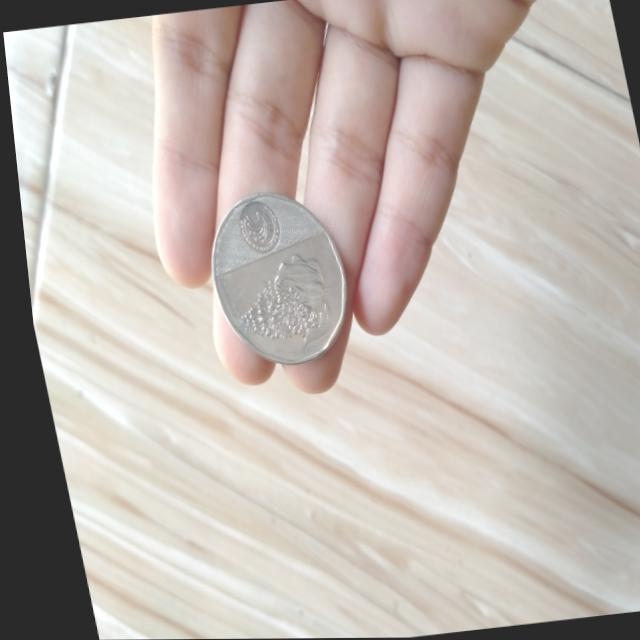10_New_Back: (206, 244, 347, 362)
